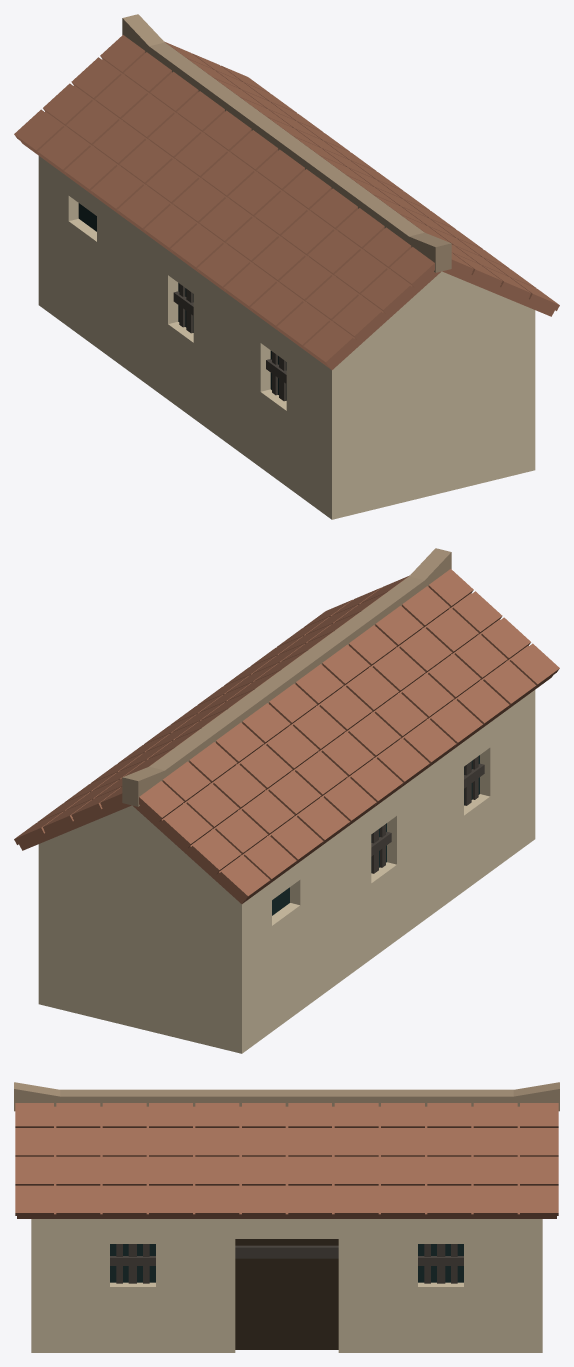
Rendered from Building_mode_L2_Northhouse013.fbx.
The picture shows the model from 3 angles, top to bottom: view 1: azimuth 30°, elevation 25°; view 2: azimuth 150°, elevation 25°; view 3: azimuth 270°, elevation 25°; orthographic projection. The views are drawn at different scales.
Parts seen in each view (by area): view 1: Building_mode_L2_Northhouse013; view 2: Building_mode_L2_Northhouse013; view 3: Building_mode_L2_Northhouse013.
Boxes of the visible parts, x1,y1,x2,y2 form: Building_mode_L2_Northhouse013: [14, 14, 559, 519]; Building_mode_L2_Northhouse013: [14, 548, 559, 1053]; Building_mode_L2_Northhouse013: [14, 1082, 559, 1352].
Bounding box in the file's own units: 2.79 × 2.93 × 6.47.
